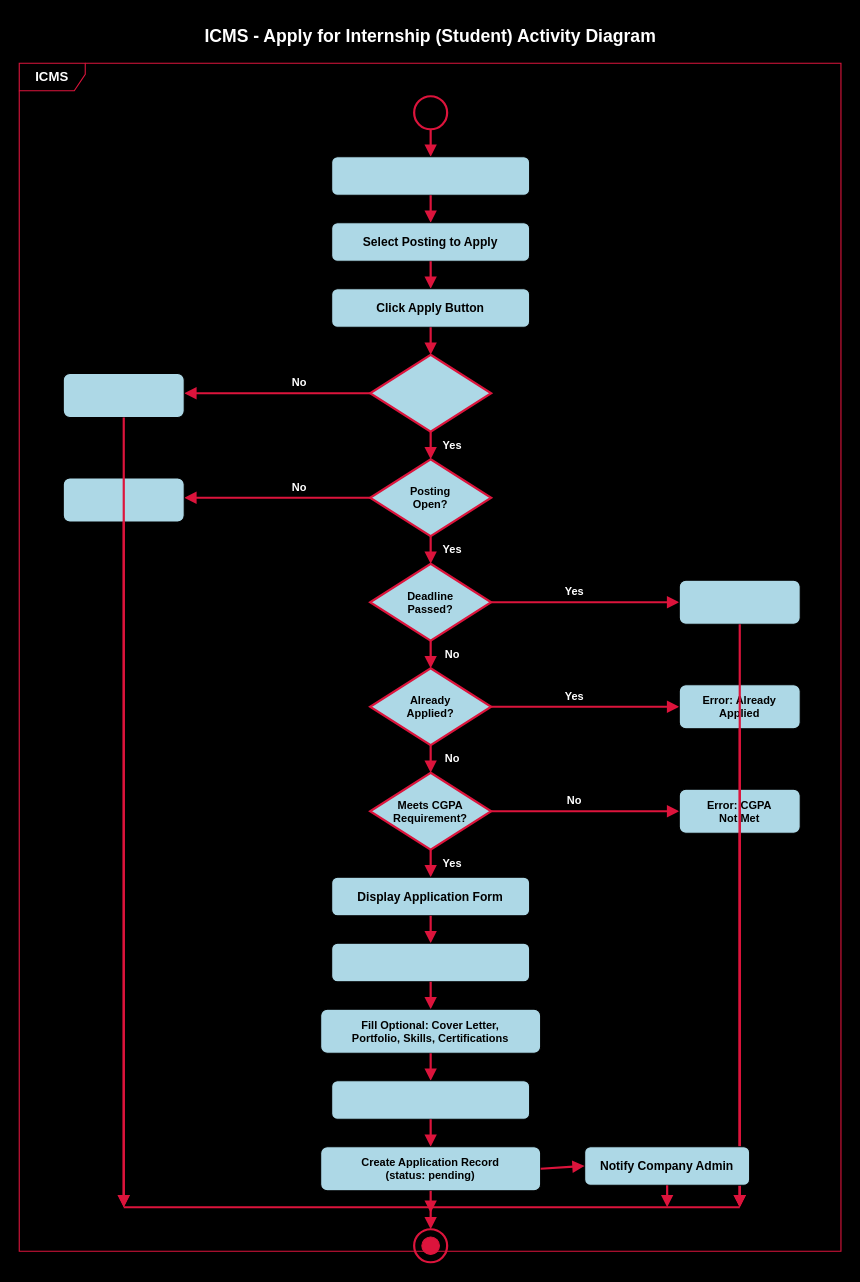
Some shapes in this 860 by 1282 pixel diagram are drawn without their labels. Each missing label, with the centre of its shape:
Browse Available Postings: the point at 430,175
Error: Contact Coordinator for Letter: the point at 123,394
Error: Deadline Has Passed: the point at 739,601
Error: Posting Not Available: the point at 123,499
Has Application Letter?: the point at 430,392
Submit Application: the point at 430,1099
Upload Resume (PDF): the point at 430,962
